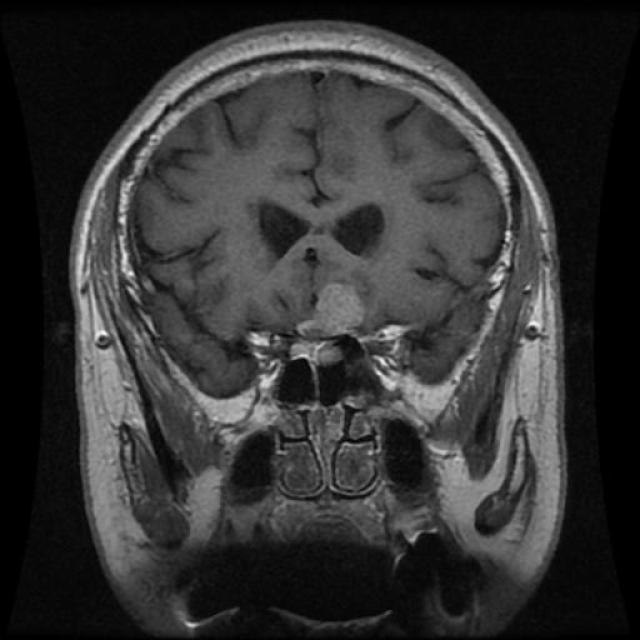pituitary: (235, 271, 406, 380)
